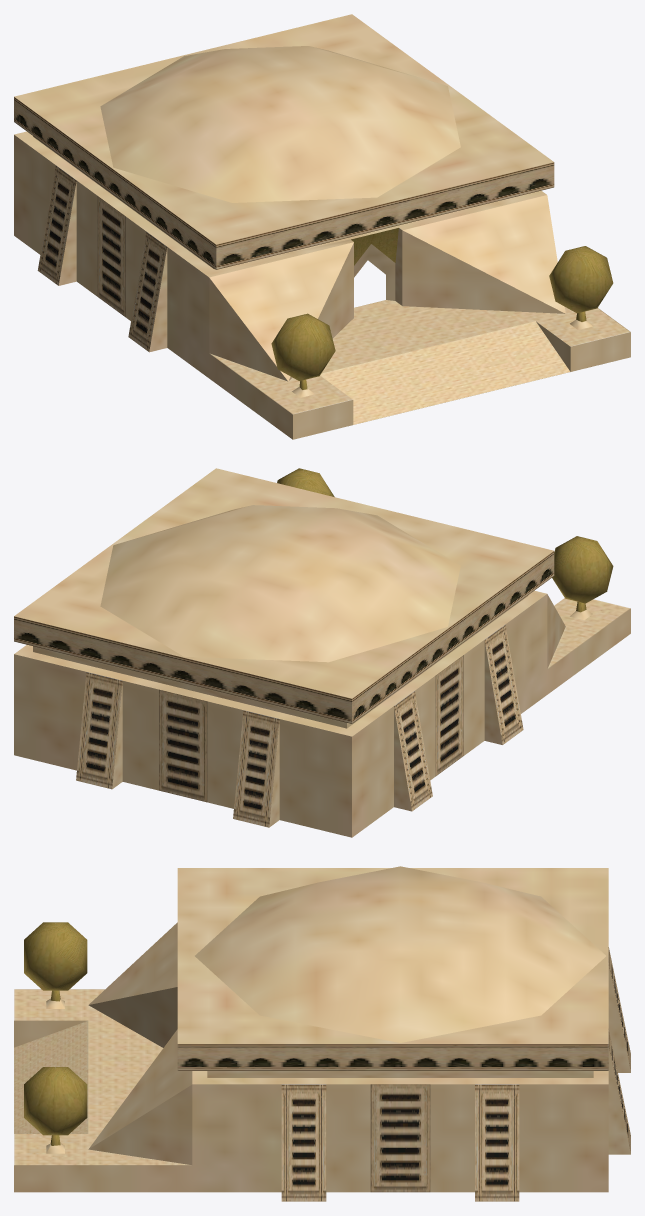
Rendered from mun_tato_guild_commerce_s01_r0_exterior_mesh_tato_guildcommerce_l2.fbx.
The picture shows the model from 3 angles, top to bottom: view 1: azimuth 30°, elevation 25°; view 2: azimuth 150°, elevation 25°; view 3: azimuth 270°, elevation 25°; orthographic projection. The views are drawn at different scales.
Parts seen in each view (by area): view 1: mesh_node; view 2: mesh_node; view 3: mesh_node.
Part boxes in pixels (left/top/right/bottom): mesh_node: left=14, top=14, right=630, bottom=439; mesh_node: left=14, top=468, right=630, bottom=837; mesh_node: left=14, top=866, right=630, bottom=1201.
Size of the model in its own units: 38.75 by 18.45 by 51.88.
